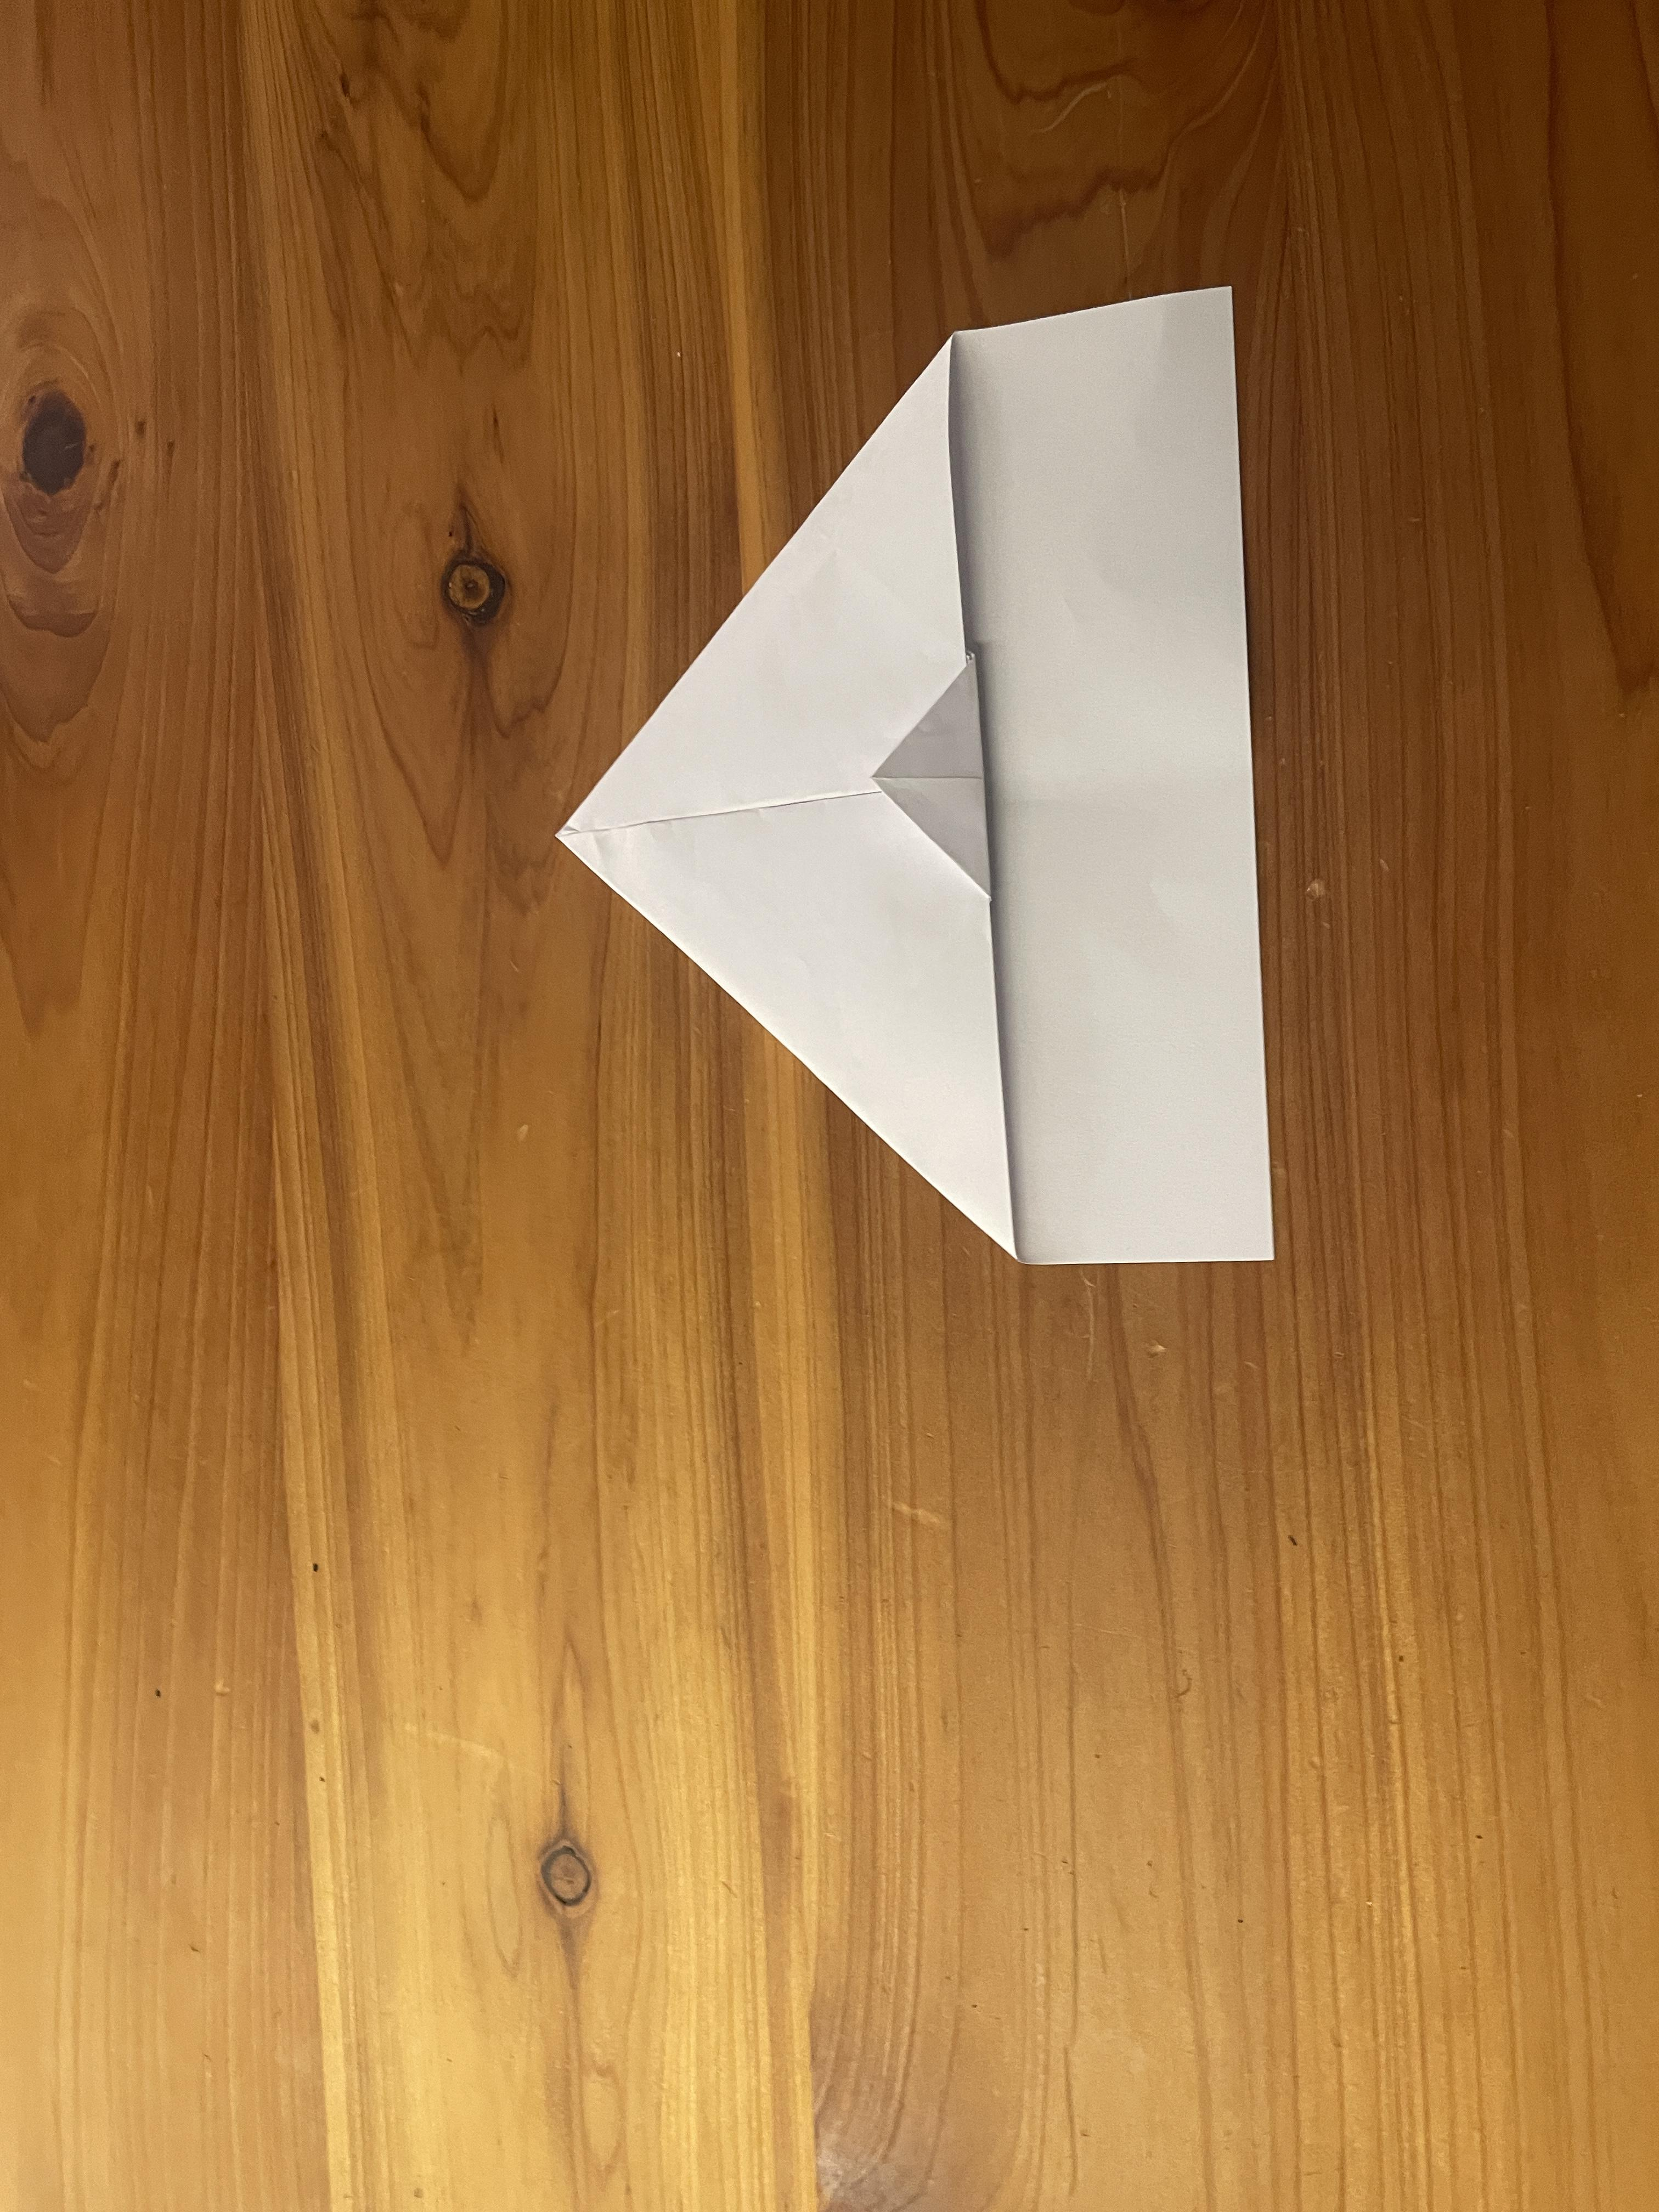shape_2: (390, 89, 1460, 1463)
